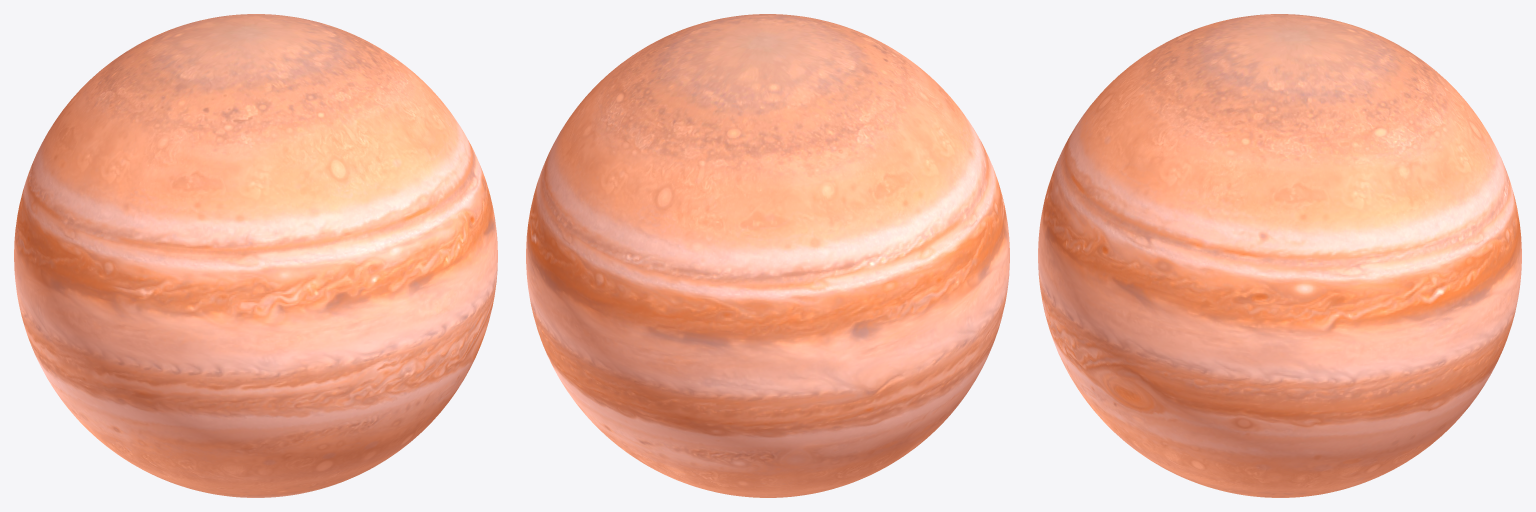
The model's file is Jupiter.glb.
3 renders of one model, left to right at view 1: azimuth 30°, elevation 25°; view 2: azimuth 150°, elevation 25°; view 3: azimuth 270°, elevation 25°, orthographic.
Visible parts, largest first — view 1: Jupiter_3; view 2: Jupiter_3; view 3: Jupiter_3.
Boxes of the visible parts, bbox=[...] form: Jupiter_3: bbox=[14, 14, 497, 497]; Jupiter_3: bbox=[526, 14, 1009, 497]; Jupiter_3: bbox=[1038, 14, 1521, 497].
Bounding box in the file's own units: 574 × 573 × 573.
Materials: 1 (1 with a texture image).
